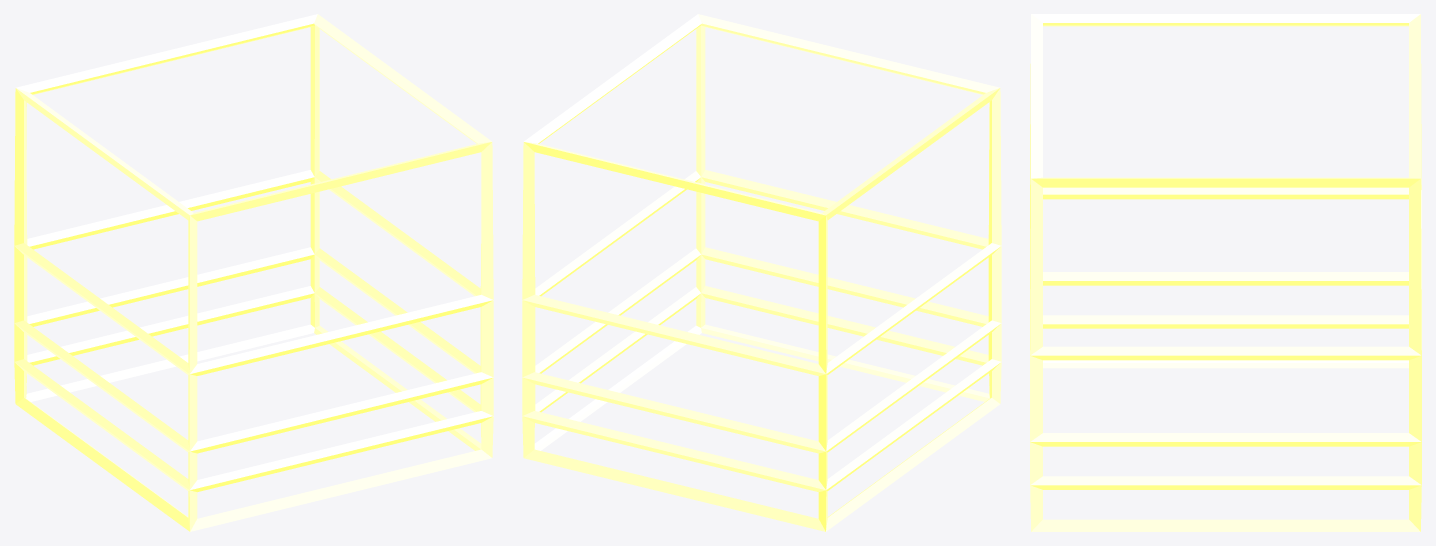
File: BlockSelection.fbx
3 views of the same model, side by side, from view 1: azimuth 30°, elevation 25°; view 2: azimuth 150°, elevation 25°; view 3: azimuth 270°, elevation 25° (orthographic). The views are drawn at different scales.
Visible parts, largest first — view 1: Cube; view 2: Cube; view 3: Cube.
Boxes of the visible parts, x1,y1,x2,y2 form: Cube: [14, 14, 493, 531]; Cube: [522, 14, 1001, 531]; Cube: [1030, 14, 1421, 531].
Bounding box in the file's own units: 212 × 211 × 212.
